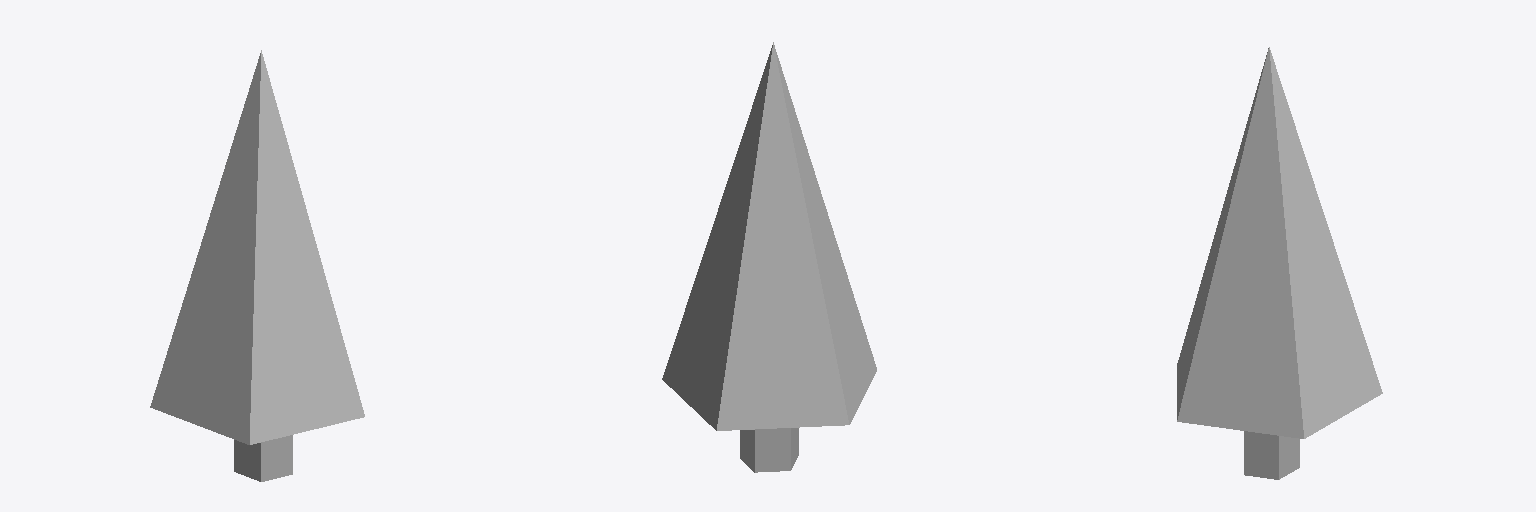
Rendered from sapin 2.obj.
3 renders of one model, left to right at view 1: azimuth 30°, elevation 25°; view 2: azimuth 150°, elevation 25°; view 3: azimuth 270°, elevation 25°, orthographic.
Visible parts, largest first — view 1: Cone.002, Cylinder; view 2: Cone.002, Cylinder; view 3: Cone.002, Cylinder.
Part boxes in pixels (left/top/right/bottom): Cone.002: left=150, top=50, right=364, bottom=444; Cylinder: left=234, top=435, right=292, bottom=481; Cone.002: left=662, top=42, right=876, bottom=430; Cylinder: left=740, top=428, right=798, bottom=472; Cone.002: left=1177, top=47, right=1382, bottom=438; Cylinder: left=1244, top=431, right=1299, bottom=479.
Size of the model in its own units: 2.15 by 4.59 by 2.04.